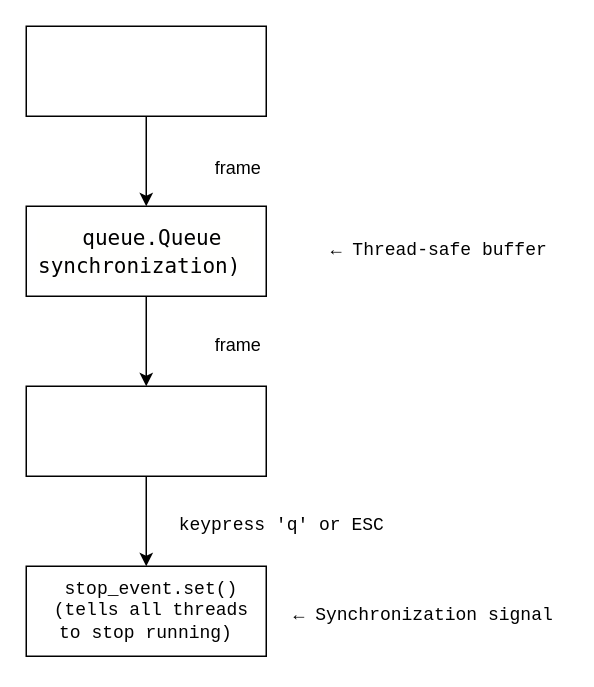
Image size: 594x687. Some labels were removed from this diagram. The centre of each missing label's shape, as x and y in pixels:
capture_video (reads from cam): the point at 145,70
display_video (shows frames): the point at 145,430
